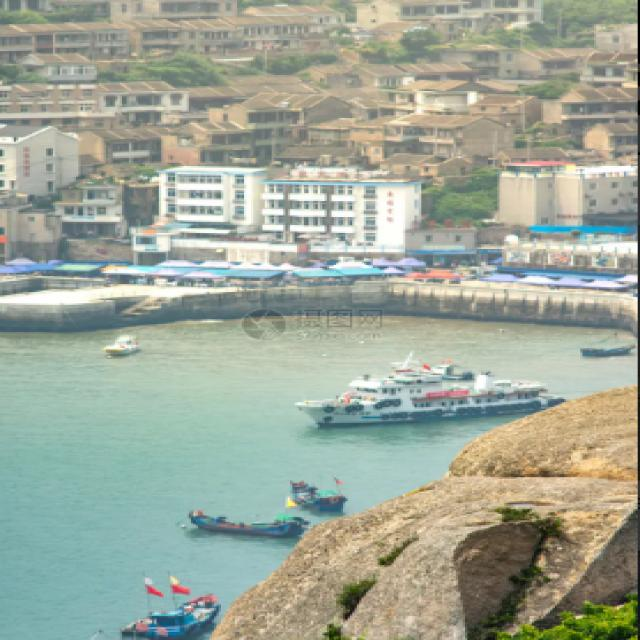fishing boat: (110, 567, 211, 633), (279, 474, 358, 528), (181, 508, 303, 537)
passenger ship: (294, 346, 547, 426)
